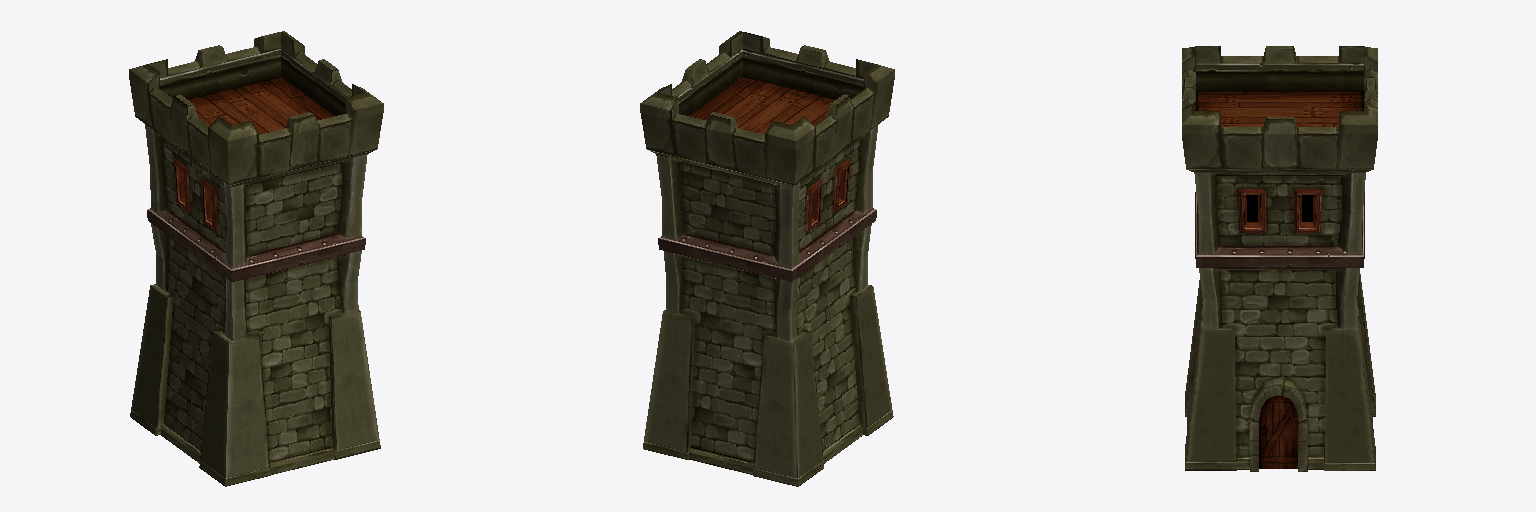
3 views of the same model, side by side, from view 1: azimuth 30°, elevation 25°; view 2: azimuth 150°, elevation 25°; view 3: azimuth 270°, elevation 25° (orthographic).
Bounding box in the file's own units: 9.03 × 19.55 × 9.82.
Materials: 1 (1 with a texture image).